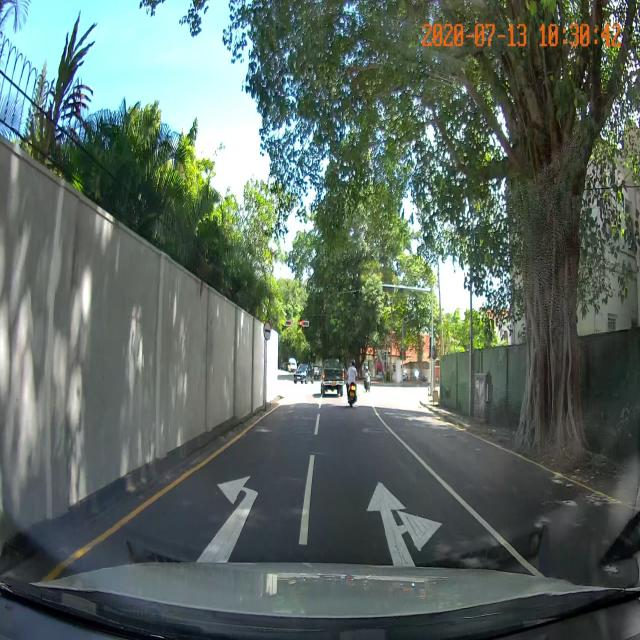Strelka vlevo: (190, 473, 262, 564)
Strelka vpered - vpravo: (364, 476, 446, 568)
